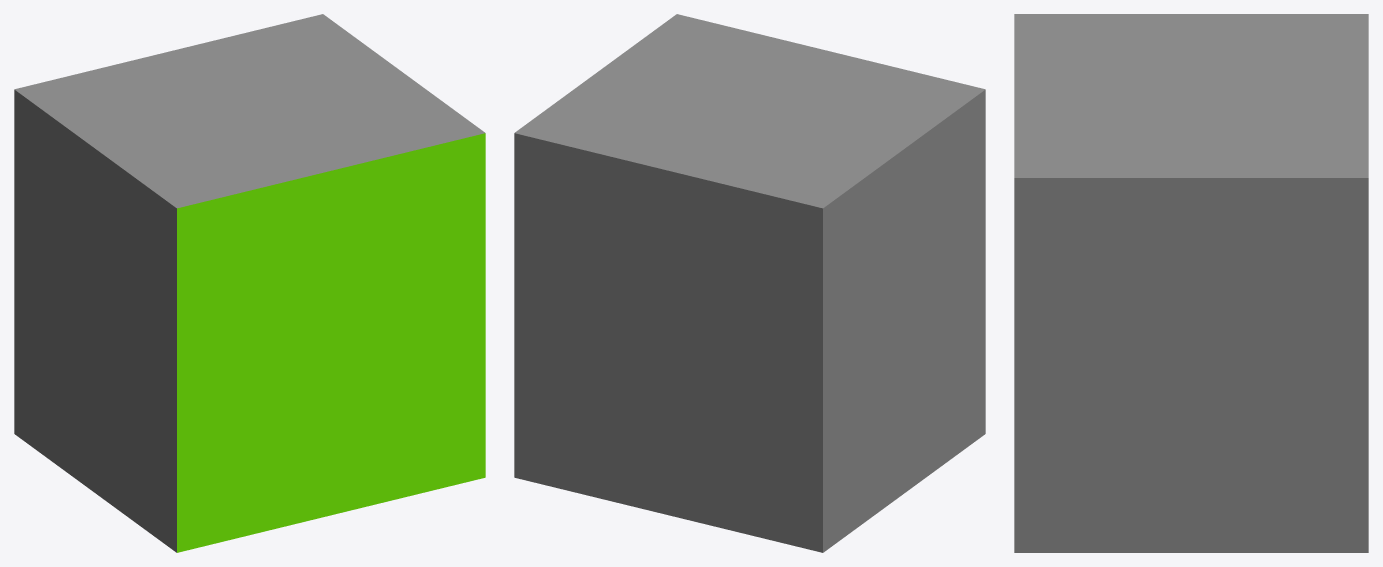
Rendered from teapot.DAE.
3 views of the same model, side by side, from view 1: azimuth 30°, elevation 25°; view 2: azimuth 150°, elevation 25°; view 3: azimuth 270°, elevation 25° (orthographic). The views are drawn at different scales.
Visible parts, largest first — view 1: Object001; view 2: Object001; view 3: Object001.
Boxes of the visible parts, box(x1,y1,x2,y2) form: Object001: box(14, 14, 485, 552); Object001: box(514, 14, 985, 552); Object001: box(1014, 14, 1368, 552).
Size of the model in its own units: 42.08 by 38.39 by 44.85.
